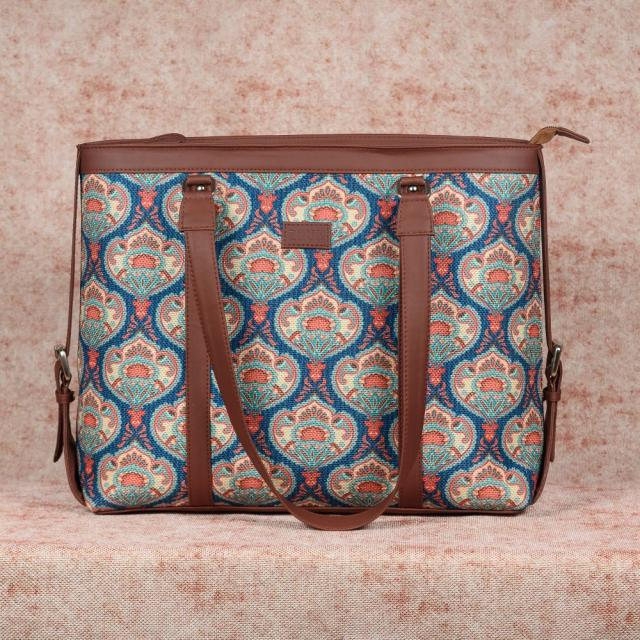handbag: (52, 125, 589, 530)
